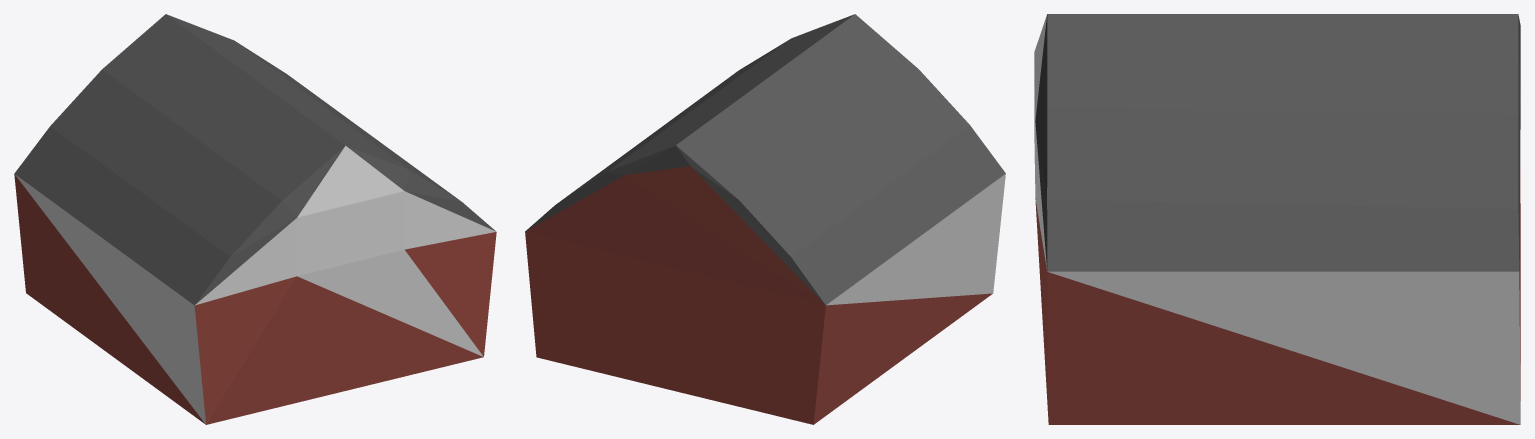
File: Barn.lod4.glb
3 renders of one model, left to right at view 1: azimuth 30°, elevation 25°; view 2: azimuth 150°, elevation 25°; view 3: azimuth 270°, elevation 25°, orthographic. The views are drawn at different scales.
Parts seen in each view (by area): view 1: Barn; view 2: Barn; view 3: Barn.
Part boxes in pixels (x1=…): Barn: x1=14, y1=14, x2=496, y2=424; Barn: x1=525, y1=14, x2=1005, y2=424; Barn: x1=1034, y1=14, x2=1520, y2=424.
Size of the model in its own units: 7.73 by 6.01 by 8.22.
